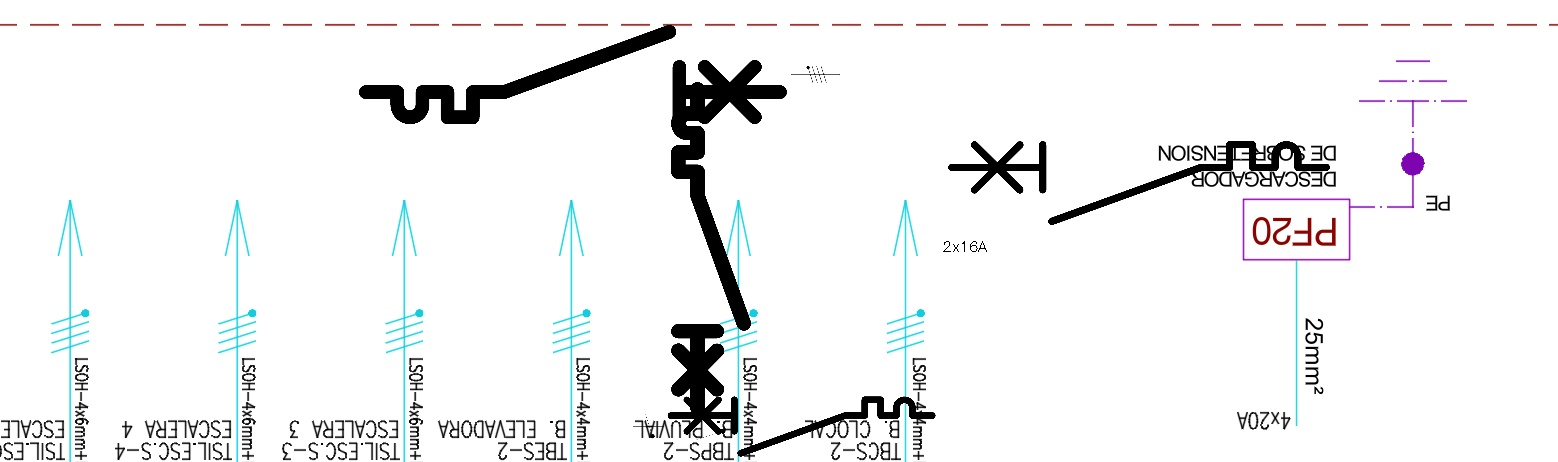interruptor_termomagnetico: (355, 21, 791, 128), (942, 135, 1336, 231), (670, 81, 752, 417), (664, 393, 939, 460)
